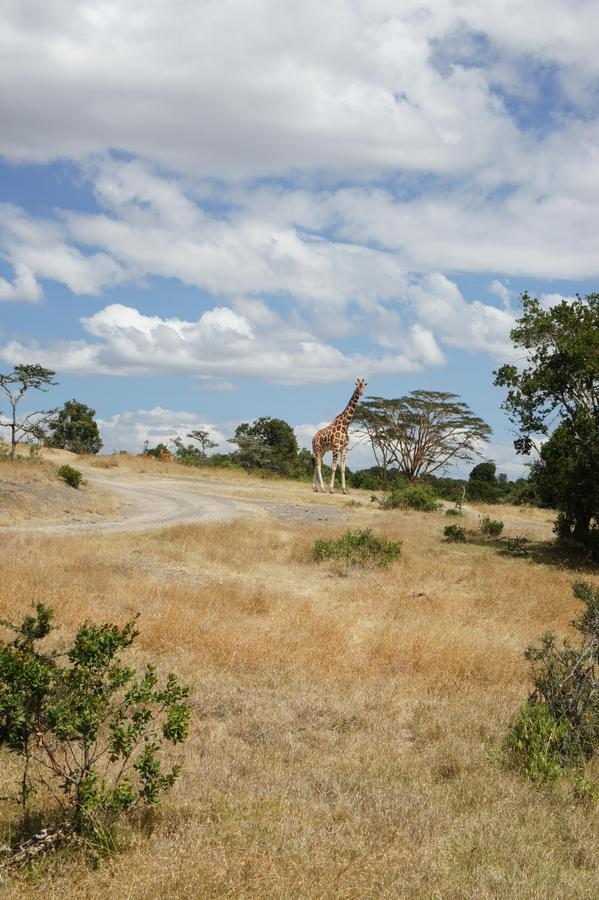giraffe: (303, 374, 375, 509)
